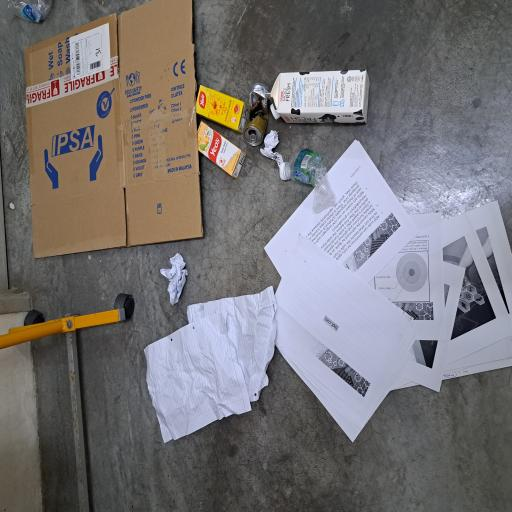can: (276, 325, 322, 360)
cardboard: (190, 32, 384, 271)
drink carton: (291, 358, 333, 492), (250, 262, 293, 328), (286, 262, 320, 328)
paper: (52, 352, 280, 512), (52, 192, 170, 370), (155, 212, 195, 252), (260, 347, 288, 377)
plastic bottle: (224, 372, 274, 446), (367, 9, 384, 69)
plastic bottle cap: (249, 370, 262, 384), (294, 360, 306, 372)
pop tab: (274, 332, 284, 343)
